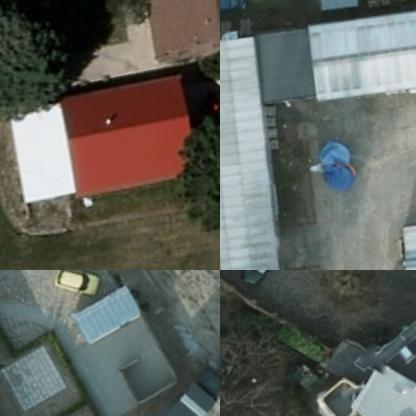car: (47, 270, 104, 308), (235, 270, 290, 292), (196, 83, 219, 129)
van: (220, 0, 253, 29)
